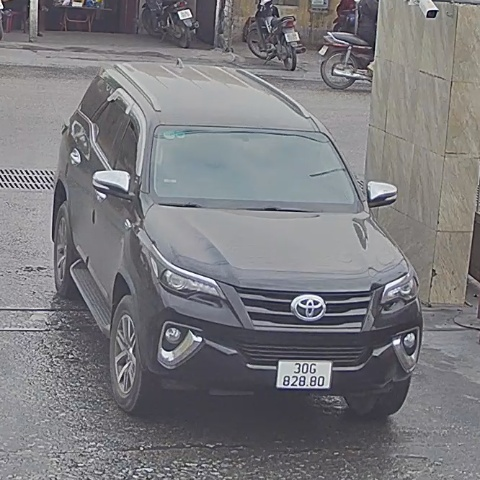vehicle plate: (273, 353, 342, 397)
